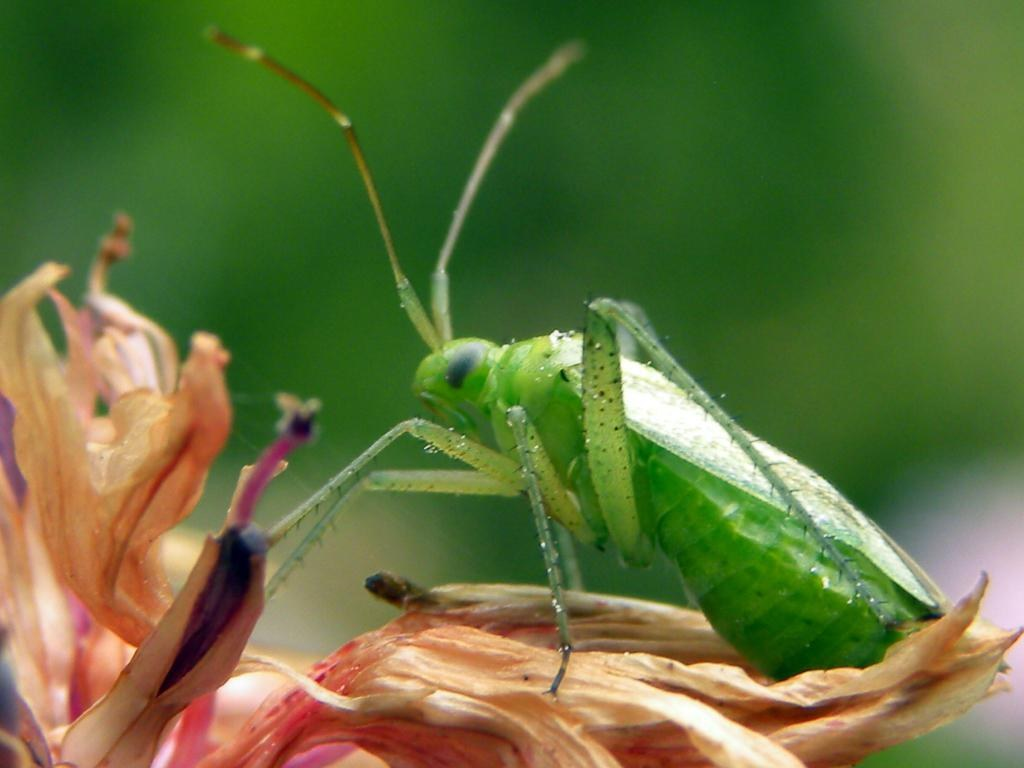insect: (205, 26, 947, 702)
